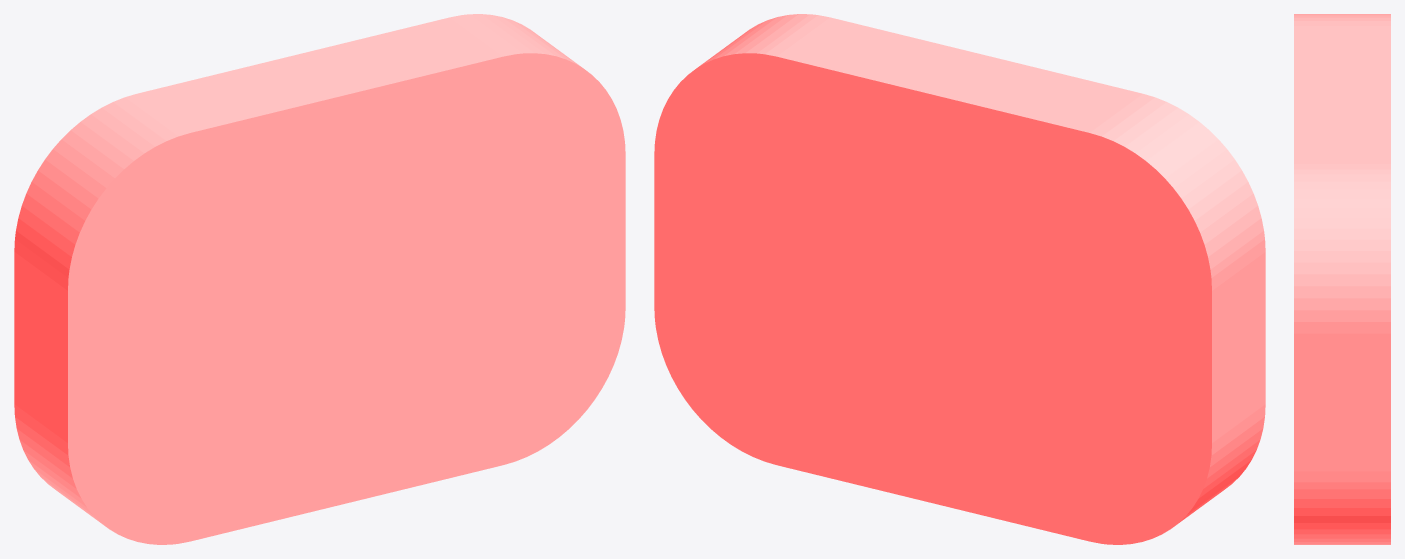
Rendered from youtube_icon.fbx.
The picture shows the model from 3 angles, left to right: view 1: azimuth 30°, elevation 25°; view 2: azimuth 150°, elevation 25°; view 3: azimuth 270°, elevation 25°; orthographic projection. The views are drawn at different scales.
Visible parts, largest first — view 1: YoutubeLogo2.001; view 2: YoutubeLogo2.001; view 3: YoutubeLogo2.001.
Boxes of the visible parts, x1,y1,x2,y2 form: YoutubeLogo2.001: (14, 14, 625, 544); YoutubeLogo2.001: (654, 14, 1265, 544); YoutubeLogo2.001: (1294, 14, 1390, 544).
Size of the model in its own units: 86.41 by 60.49 by 14.38.
